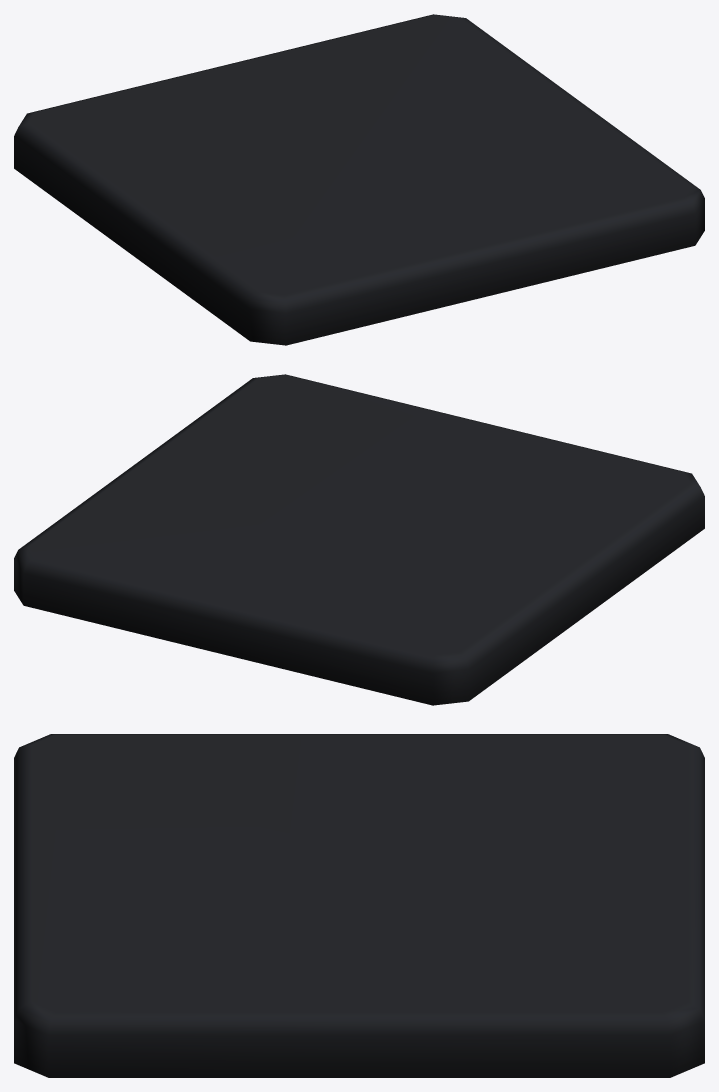
File: base_bottone_v01.fbx
The picture shows the model from 3 angles, top to bottom: view 1: azimuth 30°, elevation 25°; view 2: azimuth 150°, elevation 25°; view 3: azimuth 270°, elevation 25°; orthographic projection. The views are drawn at different scales.
Parts seen in each view (by area): view 1: base_bottone_v01; view 2: base_bottone_v01; view 3: base_bottone_v01.
Part boxes in pixels (box(x1,y1,x2,y2)): base_bottone_v01: box(14, 14, 704, 345); base_bottone_v01: box(14, 374, 704, 705); base_bottone_v01: box(14, 734, 704, 1077).
Size of the model in its own units: 3.3 by 0.3088 by 3.3.
